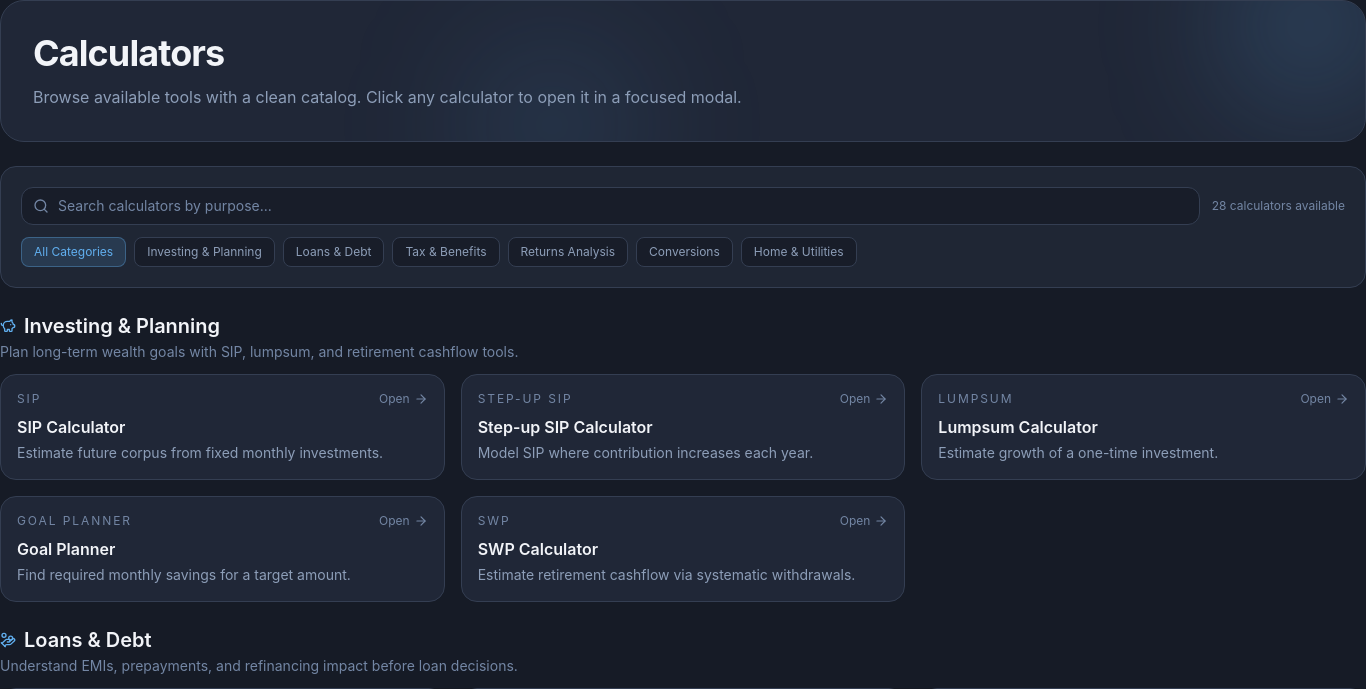
Scenario: CalculatorsPublicView › shows a filter-specific empty state and clears filters back to results
The image size is (1366, 689).
Type "does-not-exist" into the field labelled "Search calculators by purpose...".
click(610, 206); type("does-not-exist")  # box left=21, top=187, right=1200, bottom=225
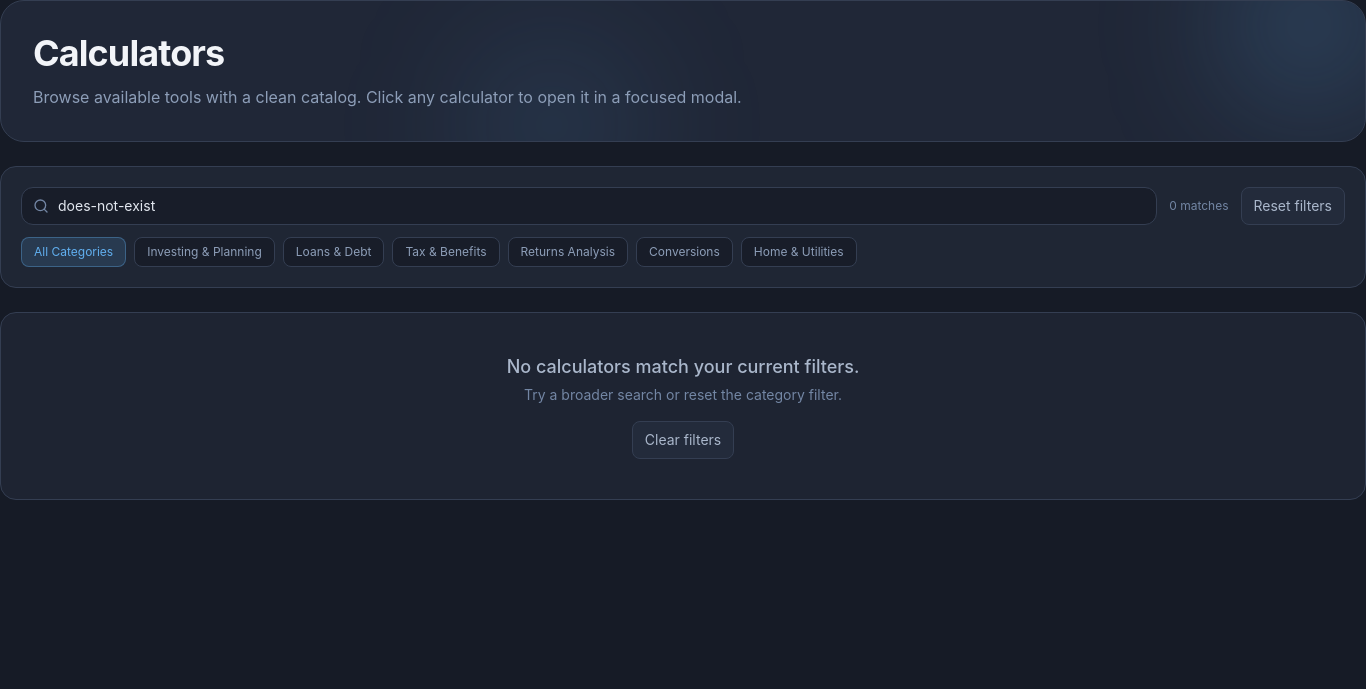
Expected: the text "No calculators match your current filters." is shown, left=507, top=356, right=859, bottom=377
Expected: the button "Clear filters" is shown
Click the button "Clear filters".
click(683, 440)  # box left=632, top=421, right=734, bottom=459
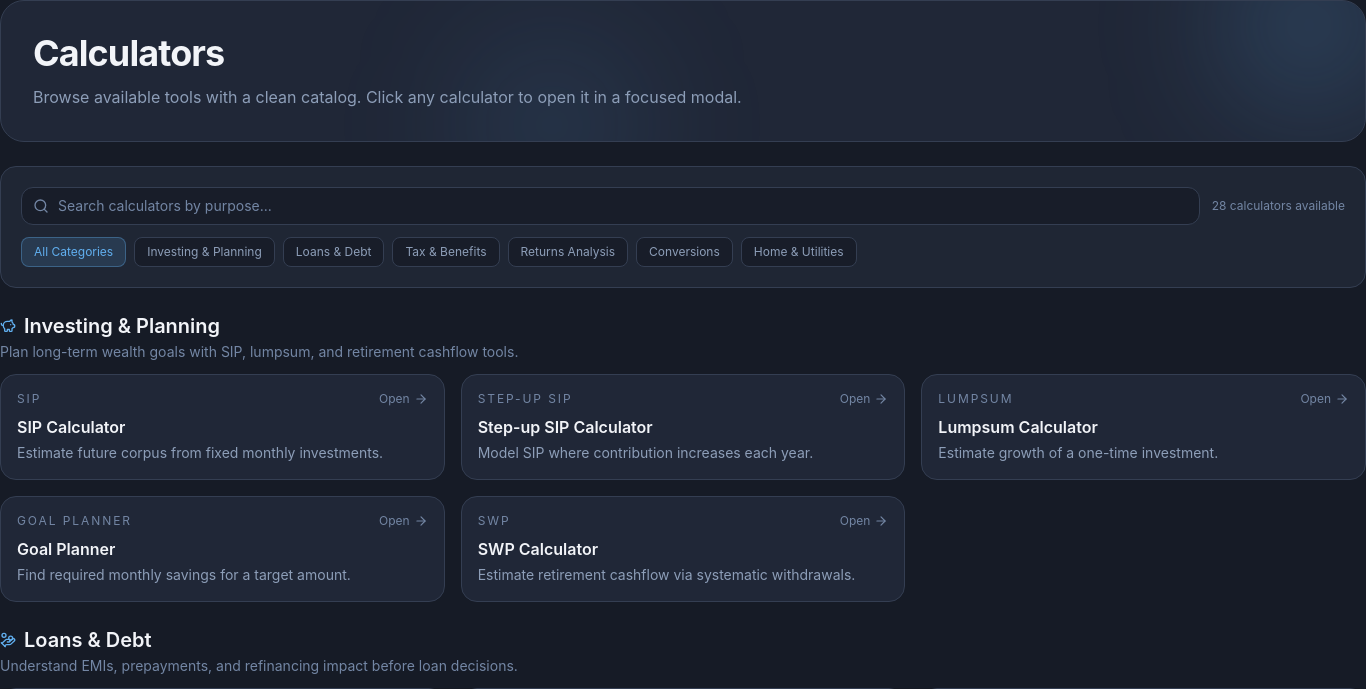
Expected: the button "Open SIP Calculator" is shown, left=0, top=374, right=445, bottom=480
